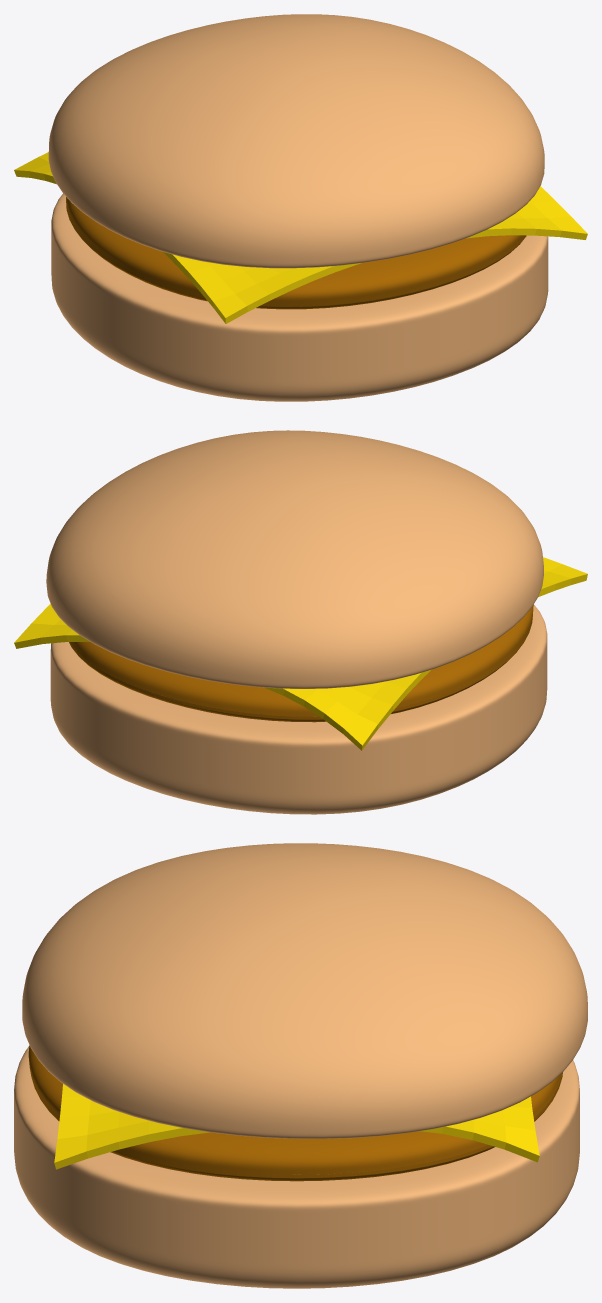
Rendered from burger.glb.
3 renders of one model, top to bottom at view 1: azimuth 30°, elevation 25°; view 2: azimuth 150°, elevation 25°; view 3: azimuth 270°, elevation 25°, orthographic. The views are drawn at different scales.
Parts seen in each view (by area): view 1: Cube.001, Cube, Cube.002, Plane; view 2: Cube.001, Cube, Cube.002, Plane; view 3: Cube.001, Cube, Cube.002, Plane.
Part boxes in pixels (x1,y1,x2,y2): Cube.001: (48, 14, 544, 268); Cube: (51, 193, 548, 401); Cube.002: (66, 197, 526, 309); Plane: (14, 152, 587, 323); Cube.001: (46, 430, 543, 688); Cube: (50, 604, 547, 814); Cube.002: (69, 605, 533, 722); Plane: (14, 557, 587, 750); Cube.001: (22, 843, 587, 1138); Cube: (14, 1046, 579, 1288); Cube.002: (28, 1045, 562, 1181); Plane: (54, 1084, 539, 1169).
Size of the model in its own units: 14.99 by 8.97 by 15.19.
